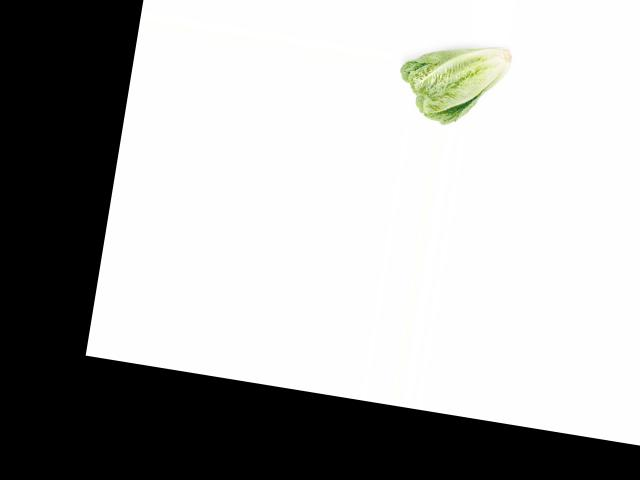lettuce: (393, 30, 515, 133)
